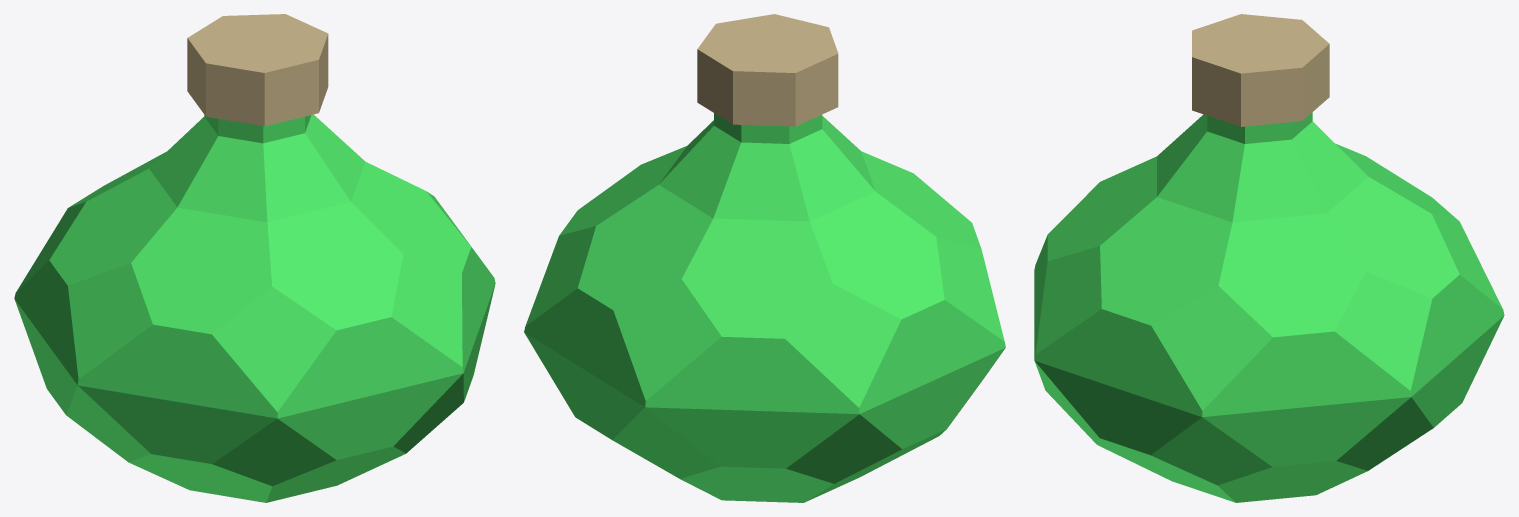
Rendered from ShortPotion_25.fbx.
3 views of the same model, side by side, from view 1: azimuth 30°, elevation 25°; view 2: azimuth 150°, elevation 25°; view 3: azimuth 270°, elevation 25° (orthographic).
Parts seen in each view (by area): view 1: ShortPotion_25; view 2: ShortPotion_25; view 3: ShortPotion_25.
Part boxes in pixels (x1,y1,x2,y2): ShortPotion_25: [14, 14, 495, 502]; ShortPotion_25: [524, 14, 1005, 502]; ShortPotion_25: [1034, 14, 1504, 502].
Size of the model in its own units: 13.29 by 12.78 by 12.96.
